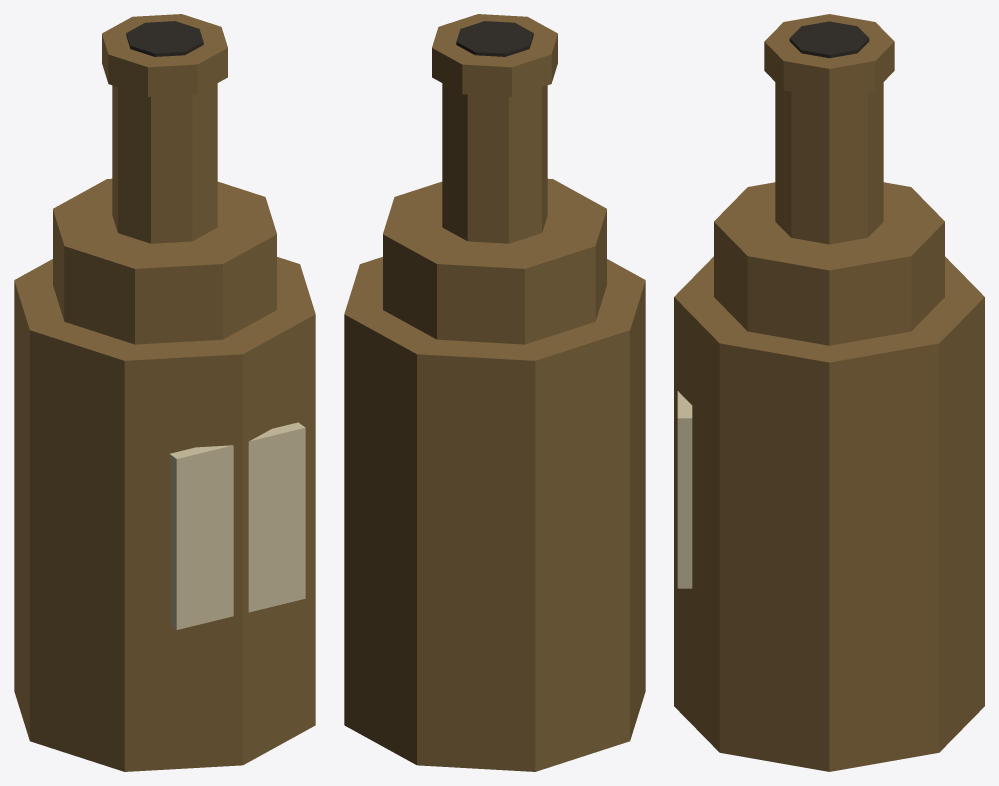
File: theo_moonshine_bottle_v01.glb
3 renders of one model, left to right at view 1: azimuth 30°, elevation 25°; view 2: azimuth 150°, elevation 25°; view 3: azimuth 270°, elevation 25°, orthographic.
Visible parts, largest first — view 1: Theo_Moonshine_Bottle; view 2: Theo_Moonshine_Bottle; view 3: Theo_Moonshine_Bottle.
Part boxes in pixels (bbox=[...]): Theo_Moonshine_Bottle: bbox=[14, 14, 315, 771]; Theo_Moonshine_Bottle: bbox=[344, 14, 645, 771]; Theo_Moonshine_Bottle: bbox=[674, 14, 984, 771].
Bounding box in the file's own units: 0.086 × 0.204 × 0.086.
